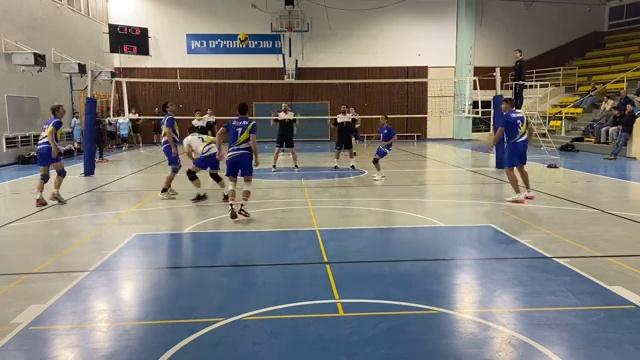ball: (237, 33, 251, 45)
